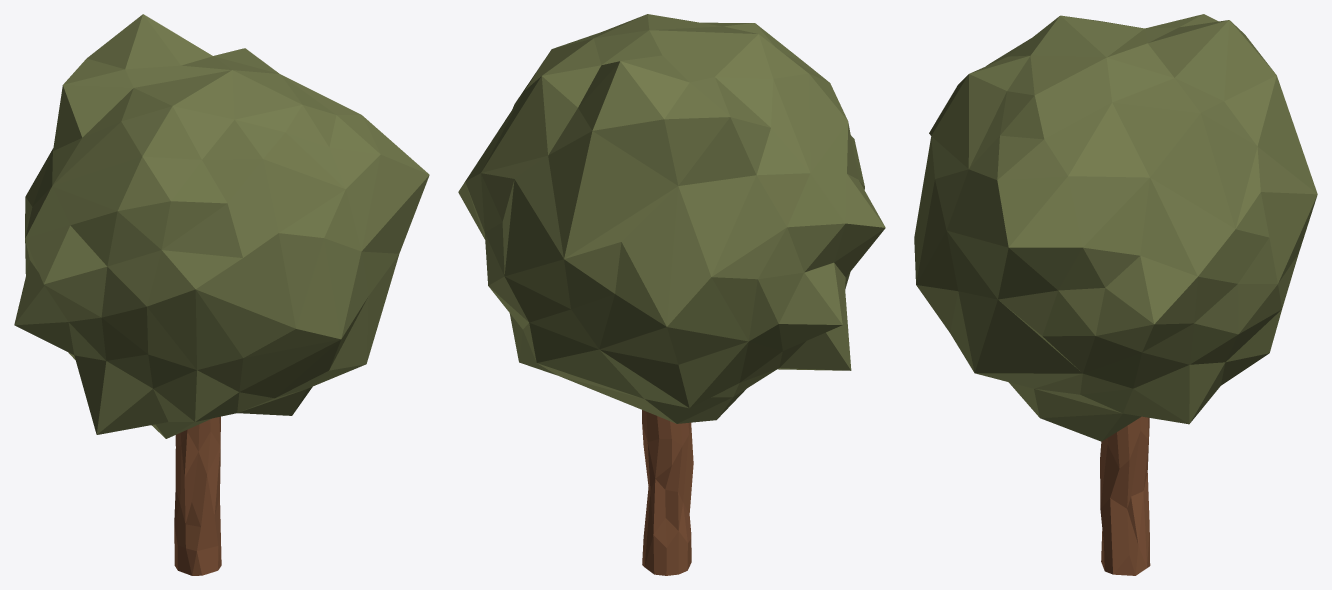
Rendered from Tree_01.fbx.
The picture shows the model from 3 angles, left to right: view 1: azimuth 30°, elevation 25°; view 2: azimuth 150°, elevation 25°; view 3: azimuth 270°, elevation 25°; orthographic projection. The views are drawn at different scales.
Visible parts, largest first — view 1: Icosphere.015, Cylinder.017; view 2: Icosphere.015, Cylinder.017; view 3: Icosphere.015, Cylinder.017.
Boxes of the visible parts, bbox=[...] form: Icosphere.015: bbox=[14, 14, 429, 438]; Cylinder.017: bbox=[174, 416, 221, 575]; Icosphere.015: bbox=[458, 14, 885, 423]; Cylinder.017: bbox=[642, 410, 693, 575]; Icosphere.015: bbox=[914, 14, 1317, 441]; Cylinder.017: bbox=[1100, 416, 1150, 575].
Bounding box in the file's own units: 345 × 466 × 314.
